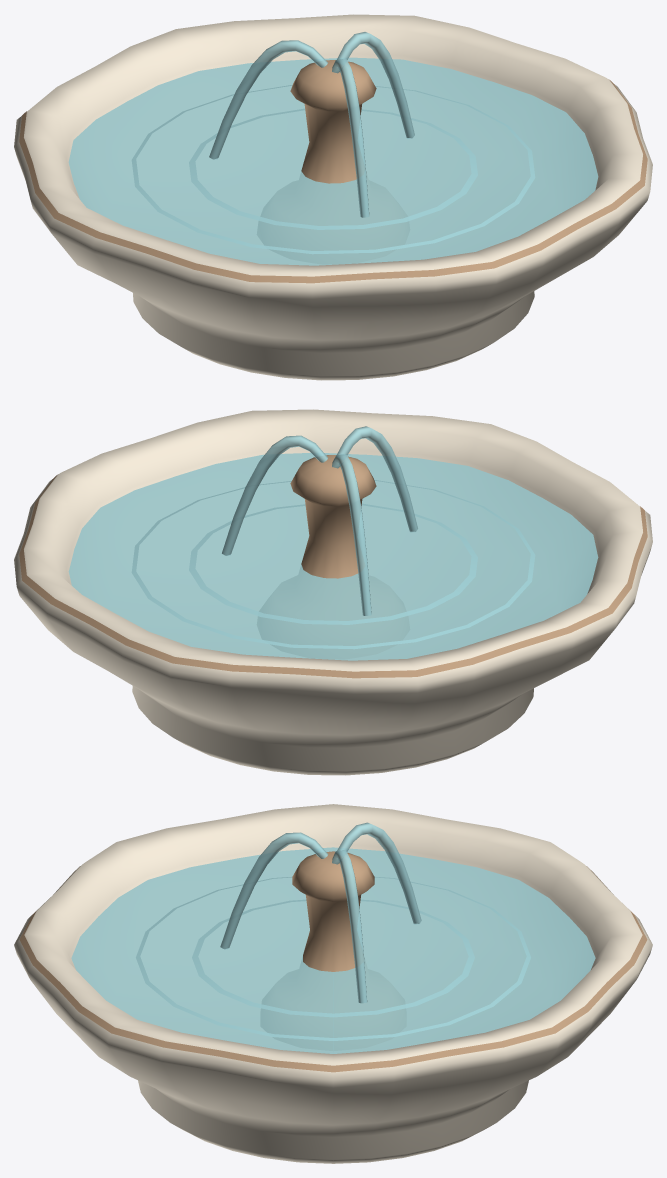
The model's file is fountain.glb.
3 views of the same model, one above another, from view 1: azimuth 30°, elevation 25°; view 2: azimuth 150°, elevation 25°; view 3: azimuth 270°, elevation 25° (orthographic). The views are drawn at different scales.
Visible parts, largest first — view 1: Fountain_Basin, Fountain_Water_Surface, Fountain_Nozzle, Fountain_Water_Flow; view 2: Fountain_Basin, Fountain_Water_Surface, Fountain_Nozzle, Fountain_Water_Flow; view 3: Fountain_Basin, Fountain_Water_Surface, Fountain_Nozzle, Fountain_Water_Flow.
Boxes of the visible parts, bbox=[...] form: Fountain_Basin: bbox=[14, 14, 652, 380]; Fountain_Water_Surface: bbox=[68, 57, 598, 265]; Fountain_Nozzle: bbox=[19, 60, 647, 283]; Fountain_Water_Flow: bbox=[131, 32, 535, 254]; Fountain_Basin: bbox=[14, 409, 652, 775]; Fountain_Water_Surface: bbox=[68, 453, 598, 660]; Fountain_Nozzle: bbox=[19, 455, 647, 678]; Fountain_Water_Flow: bbox=[131, 426, 535, 649]; Fountain_Basin: bbox=[14, 804, 652, 1163]; Fountain_Water_Surface: bbox=[71, 847, 595, 1053]; Fountain_Nozzle: bbox=[19, 851, 647, 1072]; Fountain_Water_Flow: bbox=[136, 822, 530, 1040].
Bounding box in the file's own units: 1 × 0.44 × 1.
